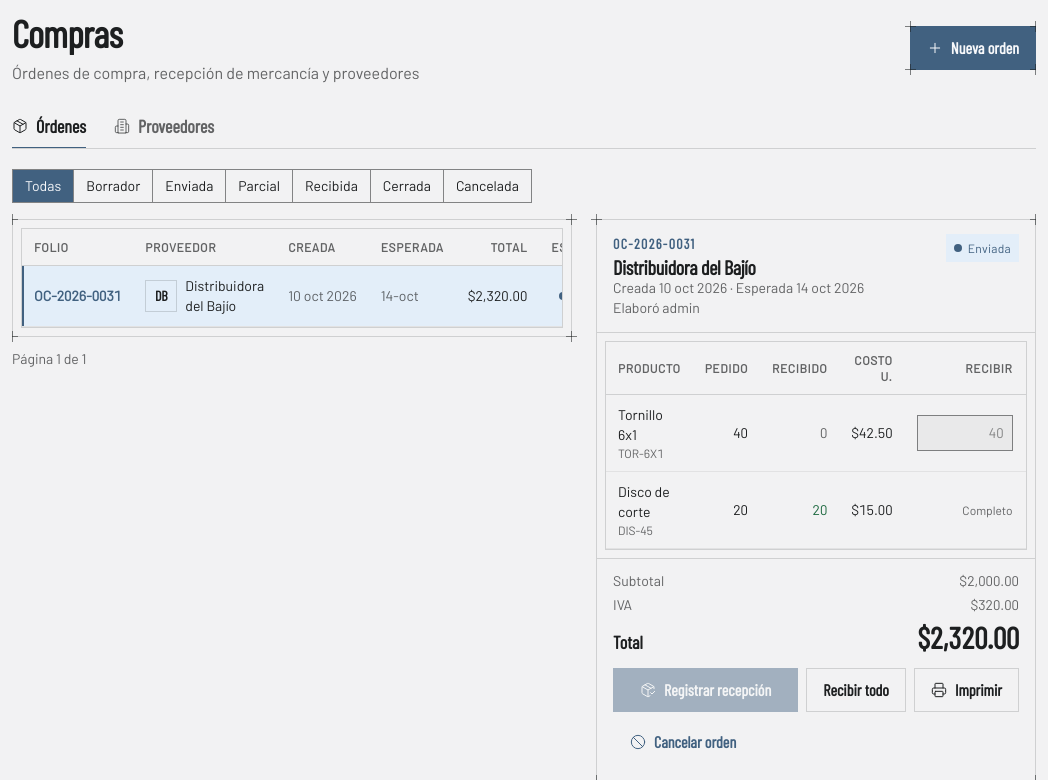
Test: Compras · órdenes › 'Recibir todo' llena lo pendiente de cada partida
Click the button "Recibir todo" at (856, 690), box [806,668,906,712]
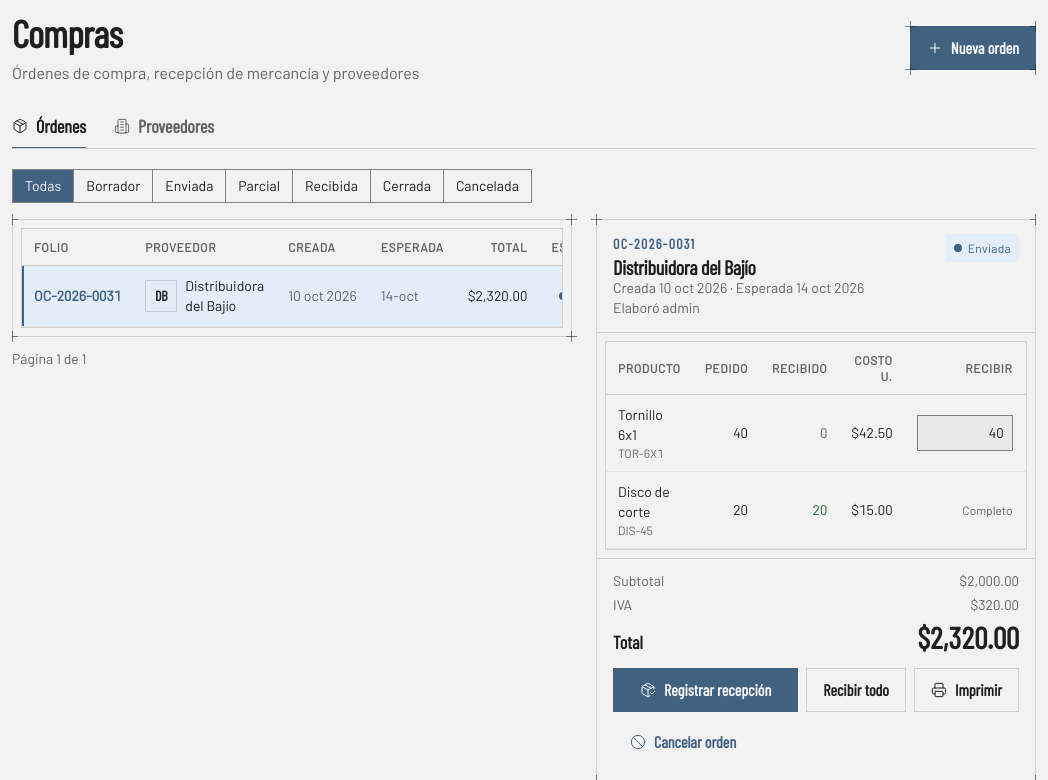
Now the number field named "Recibir Tornillo 6x1" holds "40", box [916,415,1012,451]
